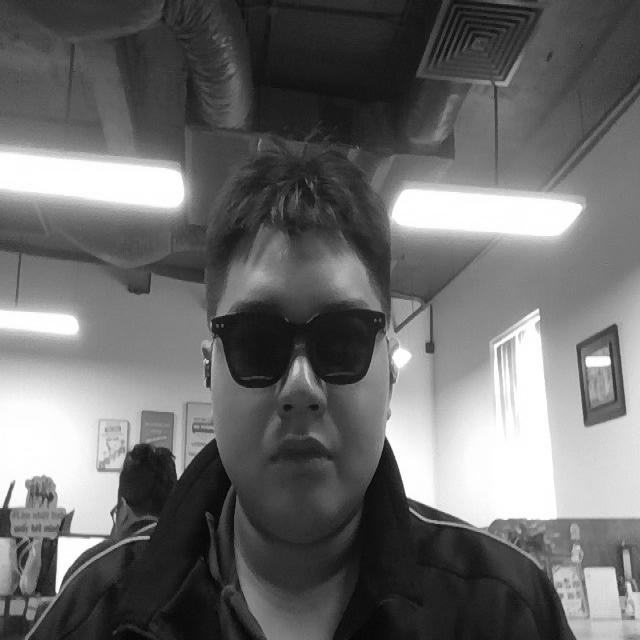fake: (207, 302, 381, 388)
real: (202, 139, 395, 544)
